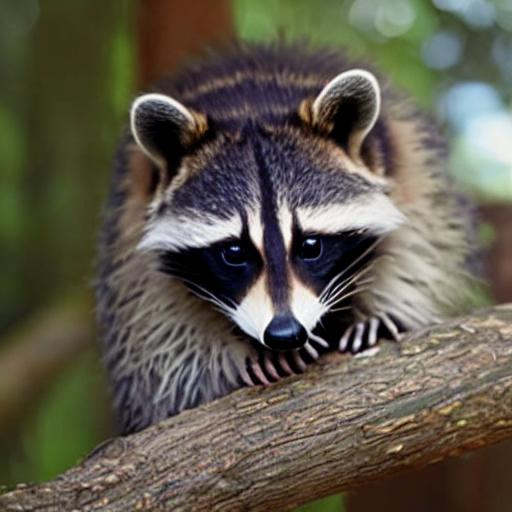raccoon: (83, 28, 488, 420)
